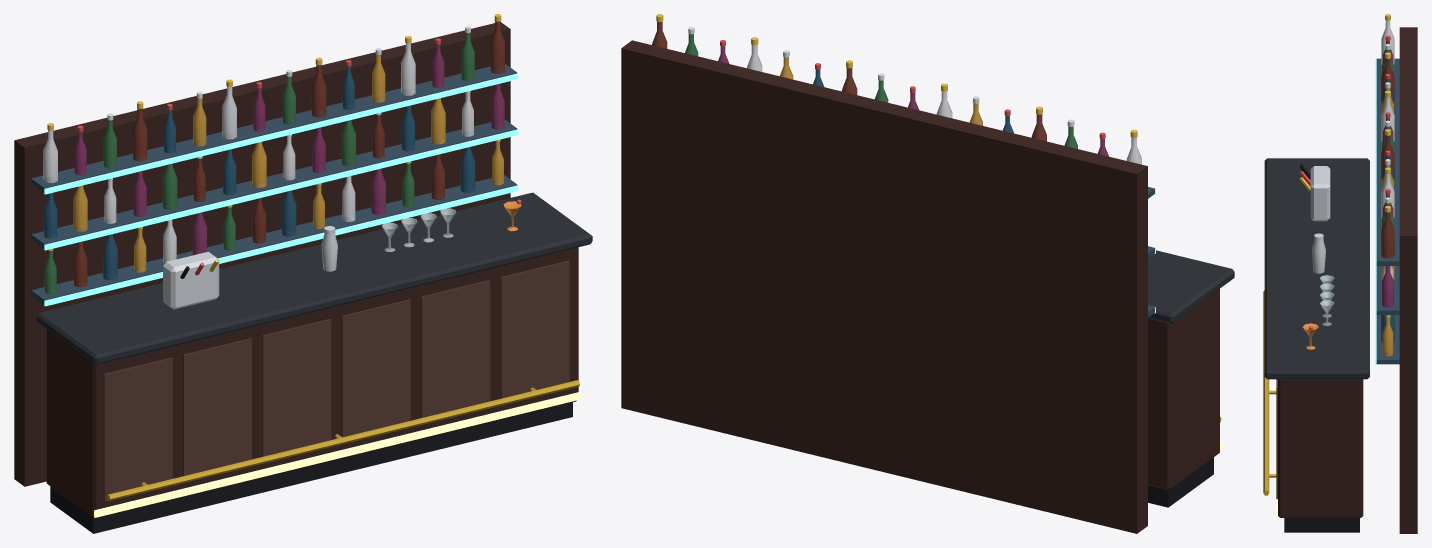
File: cocktail_bar.glb
3 renders of one model, left to right at view 1: azimuth 30°, elevation 25°; view 2: azimuth 150°, elevation 25°; view 3: azimuth 270°, elevation 25°, orthographic. The views are drawn at different scales.
Visible parts, largest first — view 1: cocktail_bar; view 2: cocktail_bar; view 3: cocktail_bar.
Boxes of the visible parts, x1,y1,x2,y2 form: cocktail_bar: [14, 14, 592, 533]; cocktail_bar: [621, 14, 1234, 533]; cocktail_bar: [1263, 14, 1417, 533].
Bounding box in the file's own units: 3.08 × 2.14 × 0.938.
